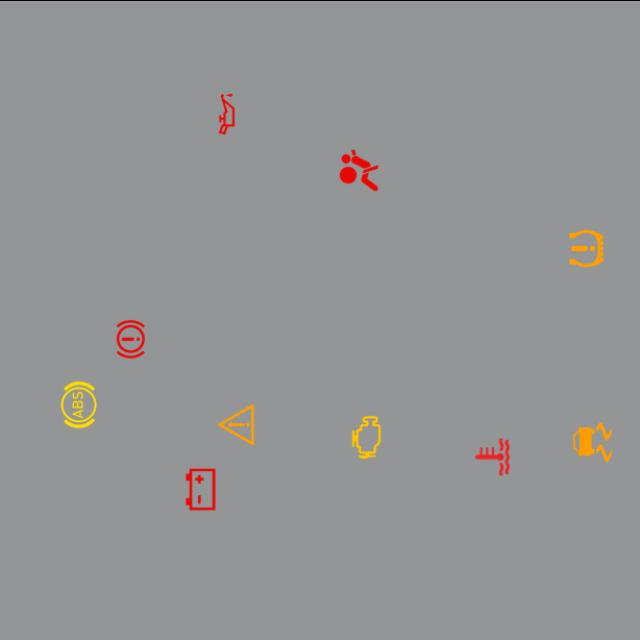Anti Lock Braking System: (53, 378, 104, 429)
Braking System Issue: (106, 312, 156, 363)
Charging System Issue: (175, 463, 226, 514)
Check Engine: (341, 411, 392, 462)
Electronic Stability Problem -ESP-: (567, 416, 618, 467)
Engine Overheating Warning Light: (467, 431, 518, 482)
Low Engine Oil Warning Light: (201, 88, 252, 138)
Low Tire Pressure Warning Light: (561, 222, 612, 273)
Master warning light: (210, 398, 262, 449)
SRS-Airbag: (334, 144, 384, 195)
